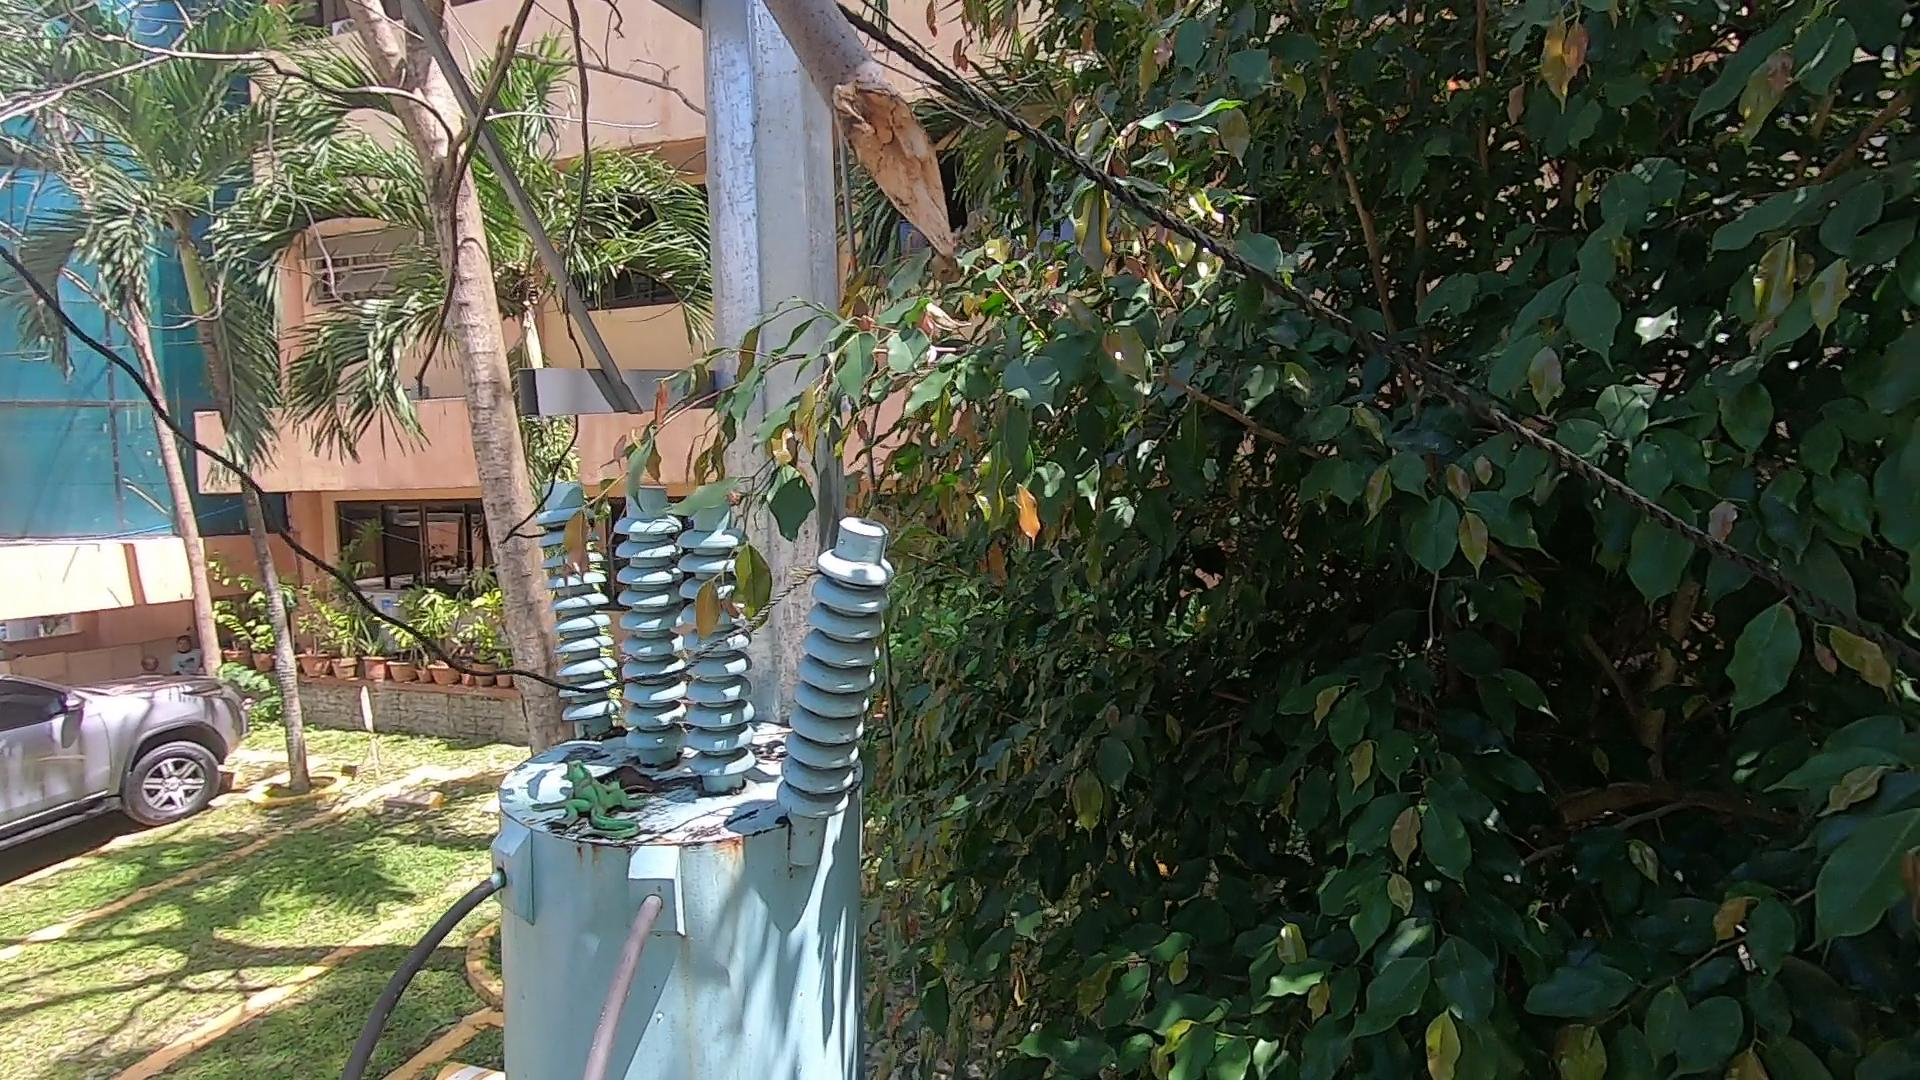branch with leaves: (568, 330, 825, 632)
leaf: (585, 764, 704, 814), (582, 717, 633, 746), (758, 741, 791, 767)
tree branch: (704, 1, 989, 293)
